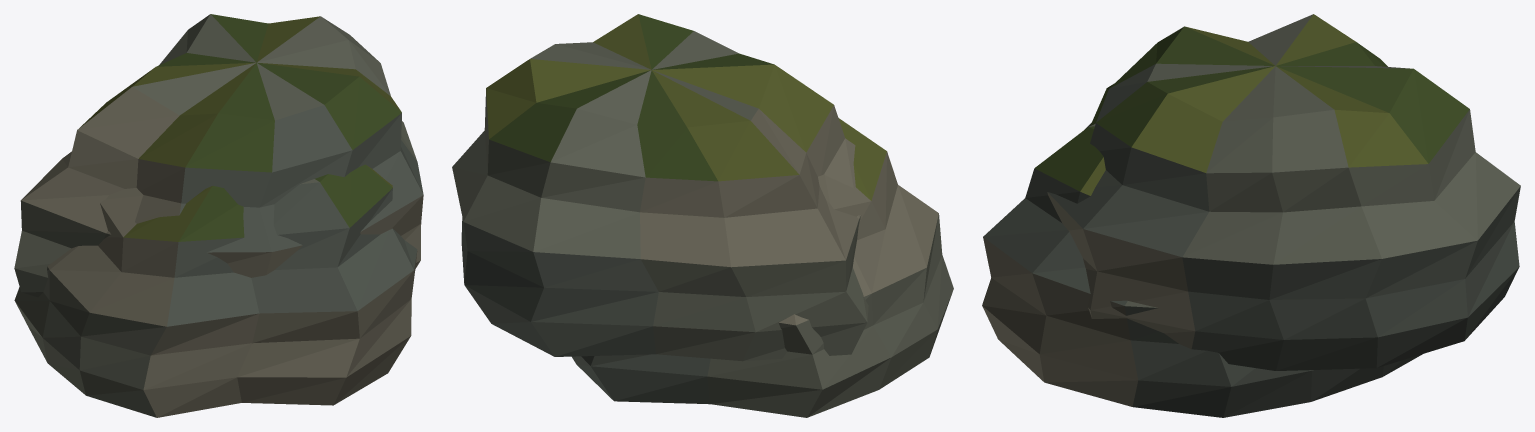
Rendered from Rock_Slate_01.fbx.
3 renders of one model, left to right at view 1: azimuth 30°, elevation 25°; view 2: azimuth 150°, elevation 25°; view 3: azimuth 270°, elevation 25°, orthographic. The views are drawn at different scales.
Visible parts, largest first — view 1: Rock_Slate_01_LOD0.001; view 2: Rock_Slate_01_LOD0.001; view 3: Rock_Slate_01_LOD0.001.
Boxes of the visible parts, left/top/right/bottom form: Rock_Slate_01_LOD0.001: left=14, top=14, right=423, bottom=417; Rock_Slate_01_LOD0.001: left=452, top=14, right=953, bottom=417; Rock_Slate_01_LOD0.001: left=982, top=14, right=1520, bottom=417.
Size of what is drawn, in the model's own units: 2.22 by 1.47 by 2.36.
